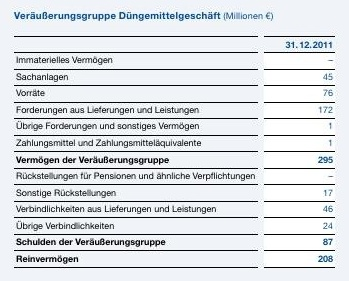table: (0, 0, 349, 281)
